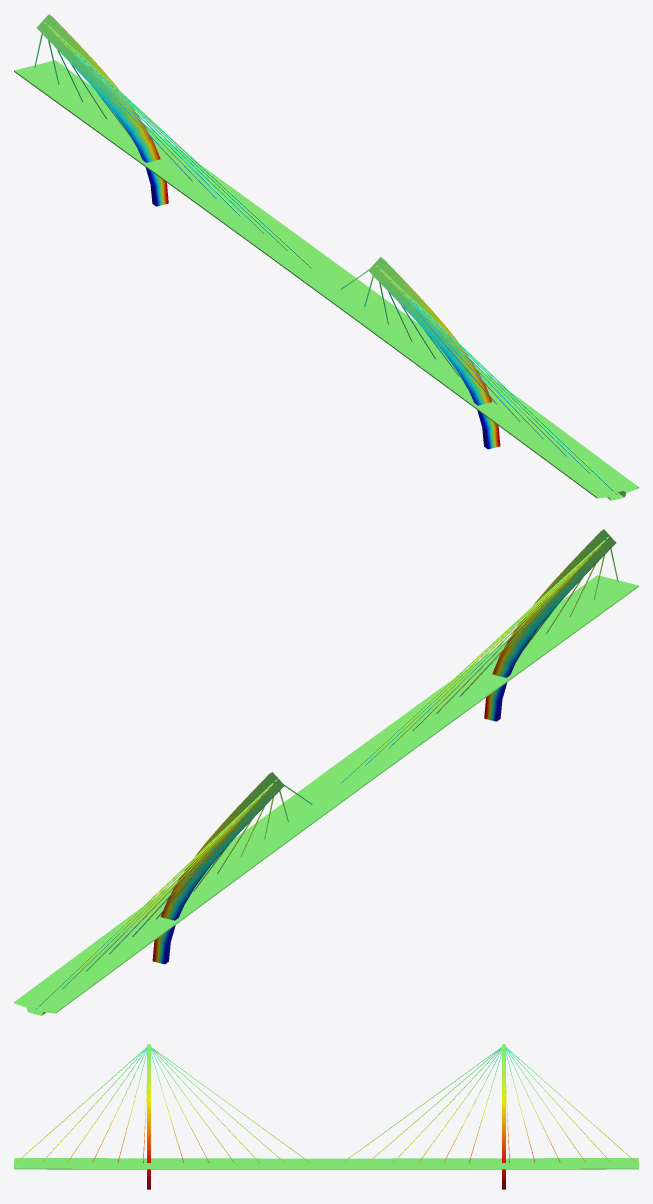
File: Mode3.glb
The picture shows the model from 3 angles, top to bottom: view 1: azimuth 30°, elevation 25°; view 2: azimuth 150°, elevation 25°; view 3: azimuth 270°, elevation 25°; orthographic projection. The views are drawn at different scales.
Parts seen in each view (by area): view 1: beam1_hull_lc101_mode3_ampFactor100; view 2: beam1_hull_lc101_mode3_ampFactor100; view 3: beam1_hull_lc101_mode3_ampFactor100.
Part boxes in pixels (x1,y1,x2,y2): beam1_hull_lc101_mode3_ampFactor100: [14, 14, 638, 500]; beam1_hull_lc101_mode3_ampFactor100: [14, 529, 638, 1015]; beam1_hull_lc101_mode3_ampFactor100: [14, 1044, 638, 1189].
Bounding box in the file's own units: 17.38 × 24.61 × 121.
Materials: 1 (1 with a texture image).
